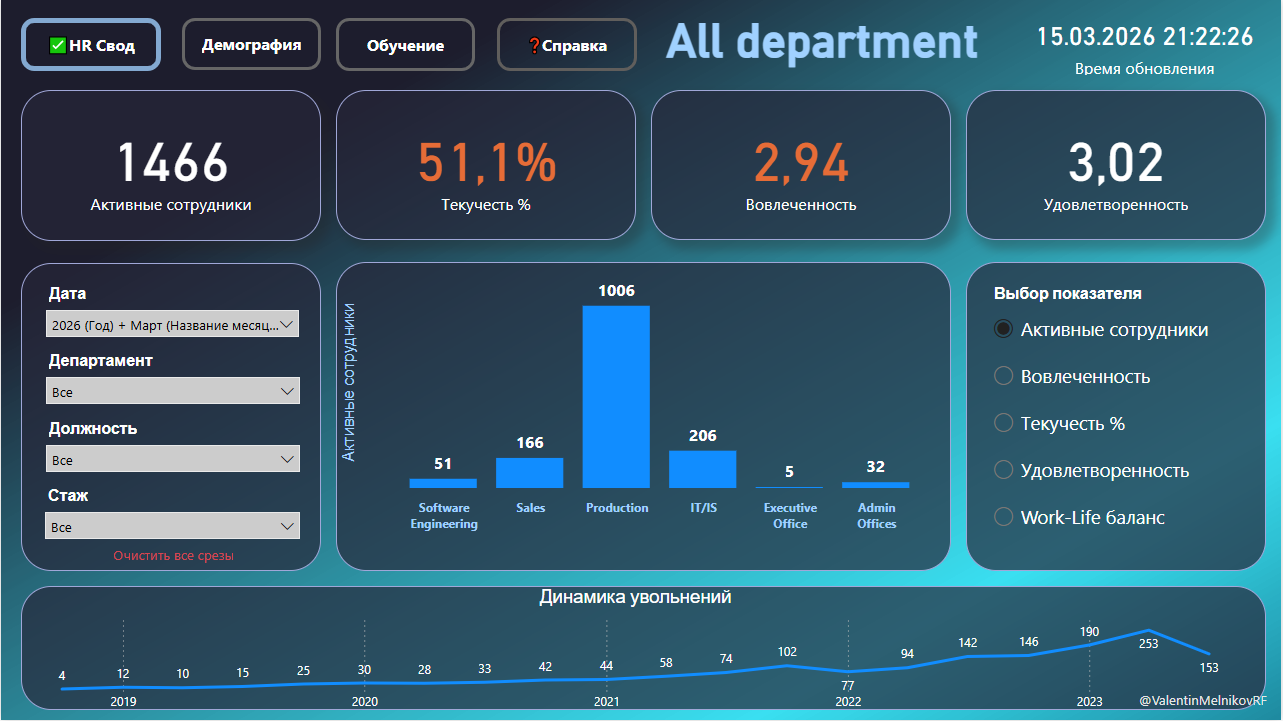

The dashboard page shown, as its layout file describes it:
{"tool":"powerbi","page":{"name":"Общий свод","canvas":[1280,720],"ordinal":0},"visuals":[{"type":"textbox","box":[20,586,1245,124],"z":0},{"type":"textbox","box":[965,262,300,309],"z":1000},{"type":"textbox","box":[20,263,300,308],"z":2000},{"type":"card","fields":{"Values":["Меры.Активные сотрудники"]},"box":[20.3,90.4,300,150.6],"z":3000},{"type":"card","fields":{"Values":["Меры.Текучесть %"]},"box":[335.3,90.4,300,150],"z":4000},{"type":"textbox","box":[1132.5,685.5,147,34.9],"z":5000},{"type":"card","fields":{"Values":["Меры.Вовлеченность"]},"box":[650.3,90.4,300,150],"z":6000},{"type":"card","fields":{"Values":["Меры.Удовлетворенность"]},"box":[965.3,90.4,300,150],"z":7000},{"type":"slicer","fields":{"Values":["Календарь.Год","Календарь.Название месяца","Календарь.Дата"]},"box":[34.9,279.5,273.5,67.5],"z":8000},{"type":"textbox","box":[335,262,615,309],"z":9000},{"type":"slicer","fields":{"Values":["employees.department_type"]},"box":[35,347.1,274.5,67.5],"z":10000},{"type":"clusteredColumnChart","fields":{"Y":["Меры.Текучесть %"],"Category":["employees.department_type"]},"box":[335,262,615,277],"z":11000},{"type":"slicer","fields":{"Values":["Выбор показателя.Выбор показателя"]},"box":[980,280,300,291],"z":12000},{"type":"slicer","fields":{"Values":["employees.job_function"]},"box":[35,414.6,274.5,67.5],"z":13000},{"type":"slicer","fields":{"Values":["employees.Tenure Group"]},"box":[34,482,275,78],"z":14000},{"type":"lineChart","title":"Динамика увольнений","fields":{"Y":["Меры.Уволенные сотрудники"],"Category":["employees.exit_date.Изменение.Иерархия дат.Год","employees.exit_date.Изменение.Иерархия дат.Квартал"]},"box":[43.2,586.4,1183,134.1],"z":15000},{"type":"actionButton","box":[82,539,181,32],"z":16000},{"type":"card","fields":{"Values":["Min(Время обновления.Дата последнего обновления)"]},"box":[1021.7,9.6,243.4,69.9],"z":17000},{"type":"card","fields":{"Values":["Меры.Департамент"]},"box":[635.7,9.7,371.4,70.2],"z":18000},{"type":"actionButton","box":[19.9,18,140,53],"z":19000},{"type":"actionButton","box":[180.9,17.6,139.6,52.7],"z":20000},{"type":"actionButton","box":[334.5,18.4,139.6,52.7],"z":21000},{"type":"actionButton","box":[496.1,18.4,139.6,52.7],"z":22000}]}

Visuals, with their boxes in screenshot pixels (x1, y1, x2, y2), scaled from the page's 1280x720 canvas onto the 1283x721 screenshot:
textbox: rect(20, 587, 1268, 711)
textbox: rect(967, 262, 1268, 572)
textbox: rect(20, 263, 321, 572)
card - Меры.Активные сотрудники: rect(20, 91, 321, 241)
card - Меры.Текучесть %: rect(336, 91, 637, 241)
textbox: rect(1135, 686, 1282, 720)
card - Меры.Вовлеченность: rect(652, 91, 953, 241)
card - Меры.Удовлетворенность: rect(968, 91, 1268, 241)
slicer - Календарь.Год x Календарь.Название месяца: rect(35, 280, 309, 347)
textbox: rect(336, 262, 952, 572)
slicer - employees.department_type: rect(35, 348, 310, 415)
clusteredColumnChart - Меры.Текучесть % x employees.department_type: rect(336, 262, 952, 540)
slicer - Выбор показателя.Выбор показателя: rect(982, 280, 1282, 572)
slicer - employees.job_function: rect(35, 415, 310, 483)
slicer - employees.Tenure Group: rect(34, 483, 310, 561)
"Динамика увольнений" lineChart: rect(43, 587, 1229, 720)
actionButton: rect(82, 540, 264, 572)
card - Min(Время обновления.Дата последнего обновления): rect(1024, 10, 1268, 80)
card - Меры.Департамент: rect(637, 10, 1009, 80)
actionButton: rect(20, 18, 160, 71)
actionButton: rect(181, 18, 321, 70)
actionButton: rect(335, 18, 475, 71)
actionButton: rect(497, 18, 637, 71)
